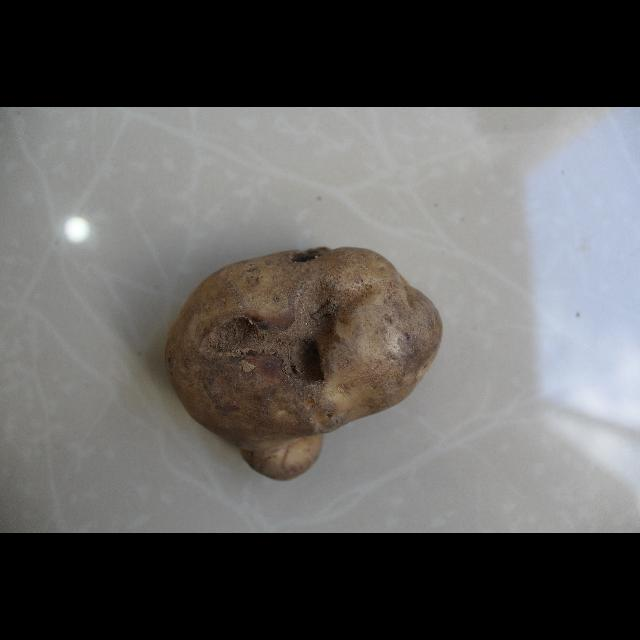Diseased-fungal potato: (162, 246, 442, 484)
